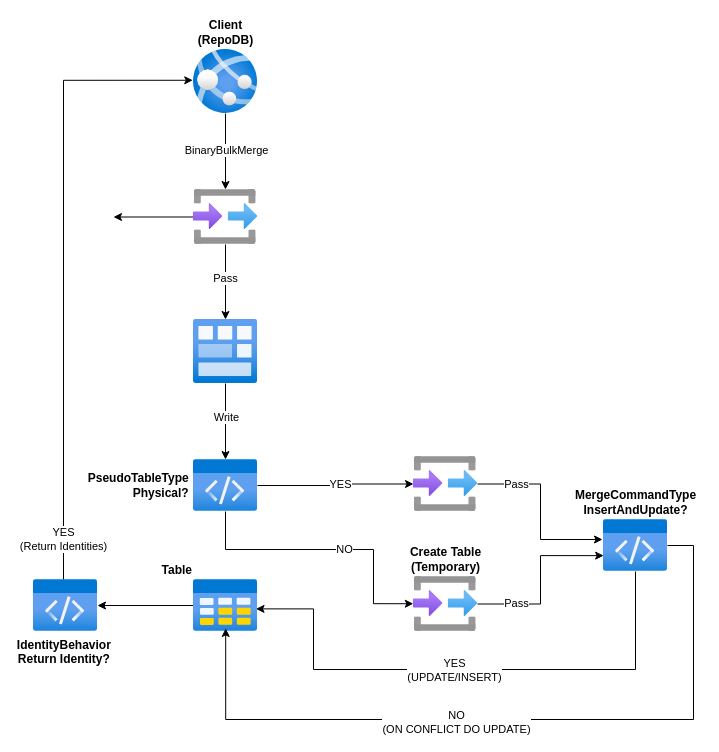
This 719x752 diagram has some shape labels left out. The centre of each missing label's shape, as x and y in pixels:
"BinaryImport" belongs at point (225, 351).
"Create Table (Physical)" belongs at point (445, 483).
"DbDataReader IEnumerable<T> DataTable" belongs at point (225, 216).
